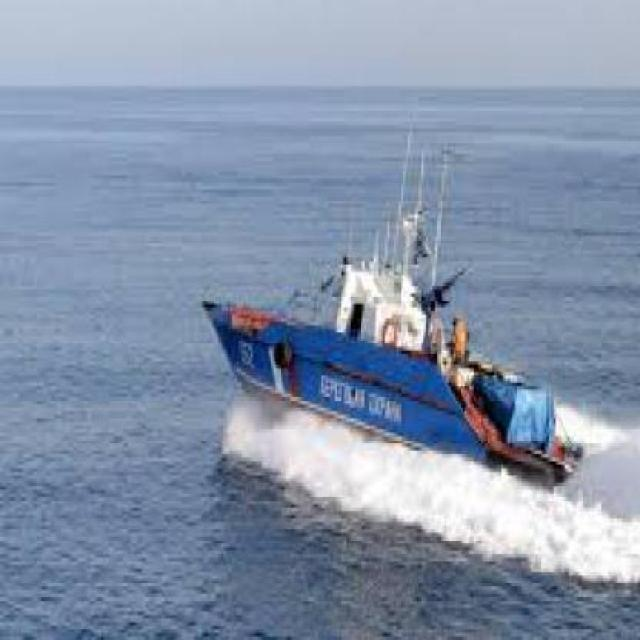fish-b: (195, 180, 602, 513)
